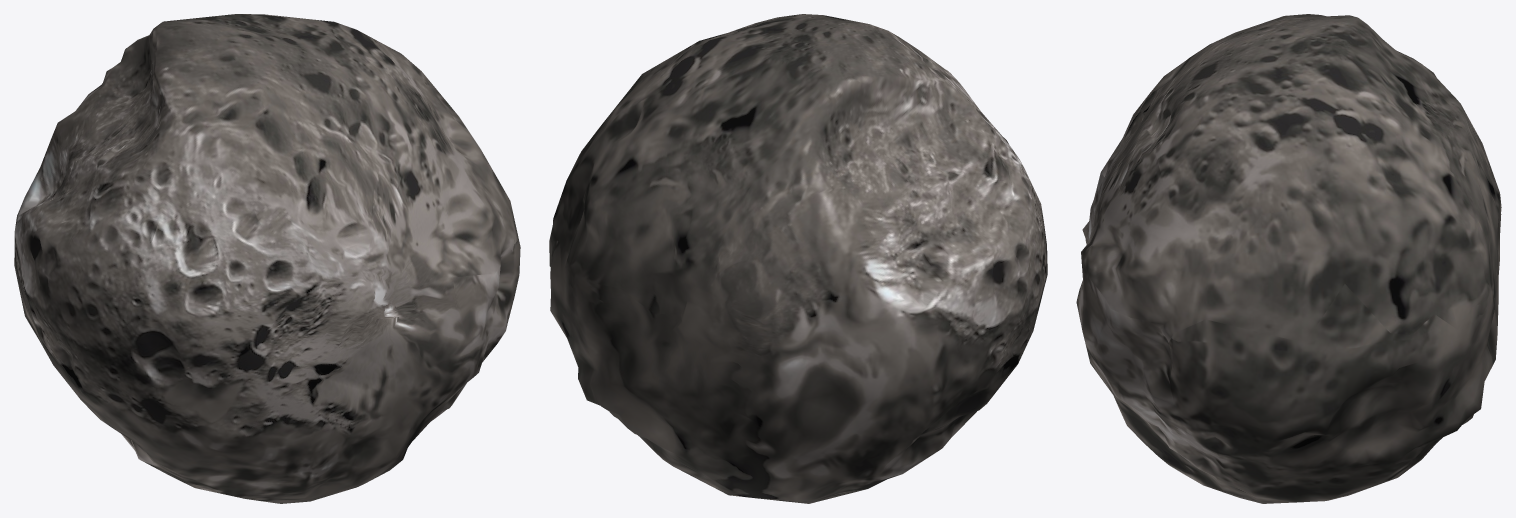
File: phoebe - thumbnail.dae
3 renders of one model, left to right at view 1: azimuth 30°, elevation 25°; view 2: azimuth 150°, elevation 25°; view 3: azimuth 270°, elevation 25°, orthographic. The views are drawn at different scales.
Parts seen in each view (by area): view 1: phoebe03; view 2: phoebe03; view 3: phoebe03.
Boxes of the visible parts, x1,y1,x2,y2 form: phoebe03: (14,14,520,503); phoebe03: (549,14,1047,503); phoebe03: (1076,14,1501,503).
Bounding box in the file's own units: 1.62 × 1.4 × 1.6.
Materials: 1 (1 with a texture image).
